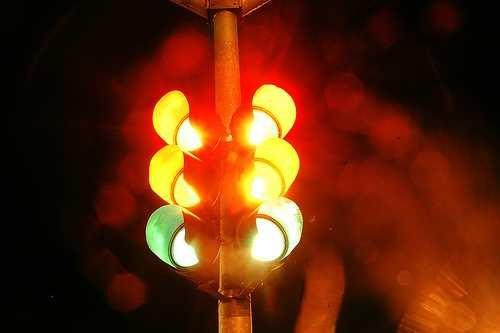green: (146, 205, 215, 275), (239, 207, 306, 276)
